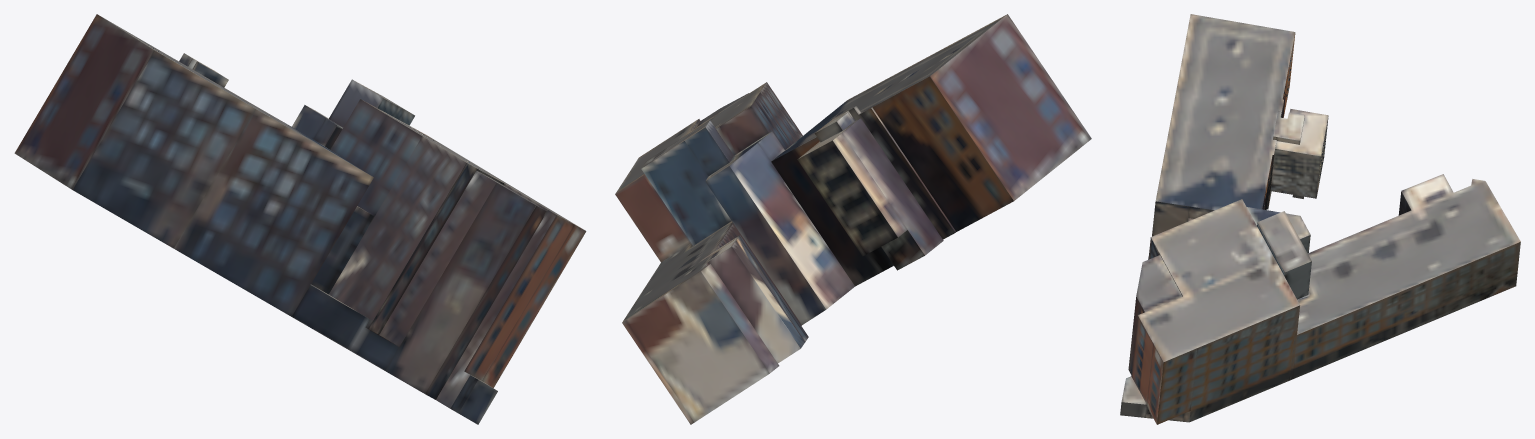
3 renders of one model, left to right at view 1: azimuth 30°, elevation 25°; view 2: azimuth 150°, elevation 25°; view 3: azimuth 270°, elevation 25°, orthographic. The views are drawn at different scales.
Parts seen in each view (by area): view 1: BAG_0599100000752498 (×6); view 2: BAG_0599100000752498 (×6); view 3: BAG_0599100000752498 (×5).
Boxes of the visible parts, x1,y1,x2,y2 form: BAG_0599100000752498 (×6): [14, 14, 586, 424]; BAG_0599100000752498 (×6): [615, 14, 1091, 424]; BAG_0599100000752498 (×5): [1120, 14, 1520, 424].
Bounding box in the file's own units: 56.84 × 45.08 × 53.26.
1 material, 1 textured.
